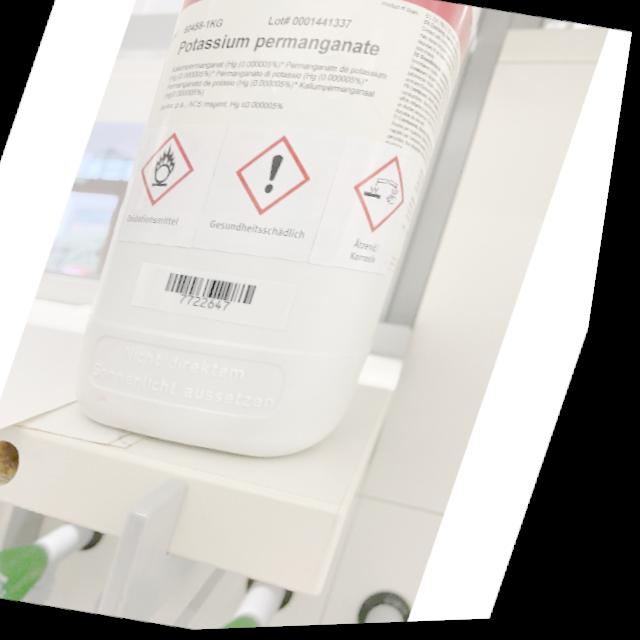corrosive: (346, 151, 426, 241)
health-ozone layer hazard: (228, 129, 331, 228)
oxidising: (134, 128, 210, 214)
